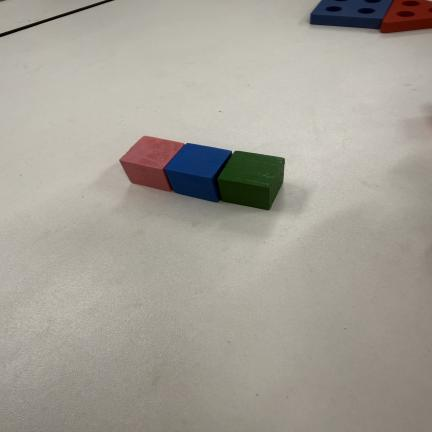BuildingBlocks: (218, 151, 284, 209), (165, 144, 231, 201), (120, 136, 184, 191), (311, 0, 392, 28), (381, 0, 431, 32)
